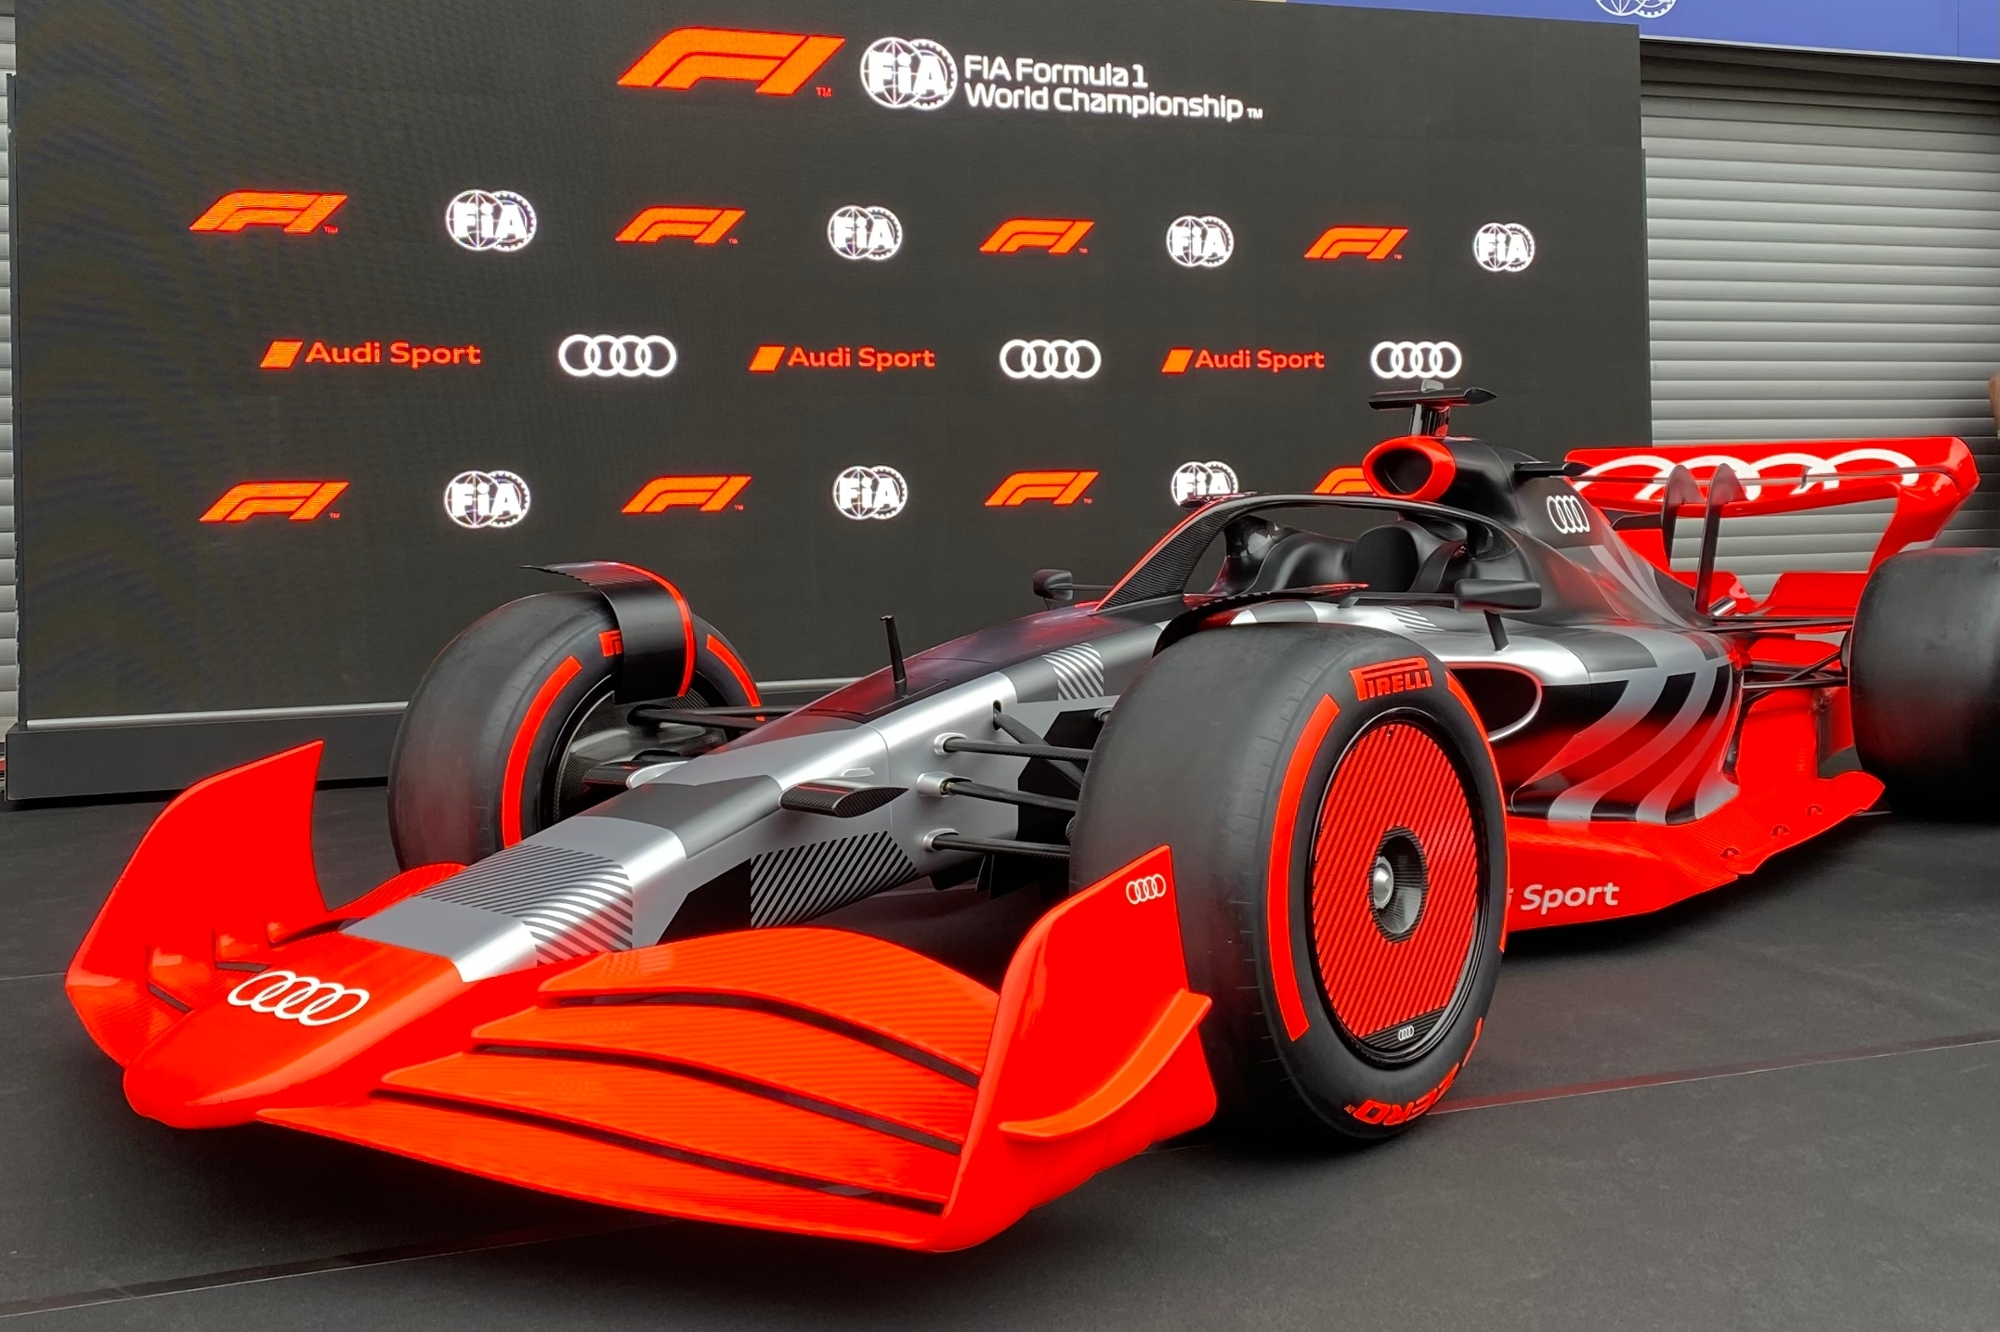Formule 1: (64, 431, 2000, 1250)
